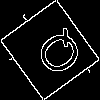Q: (25, 24, 89, 85)
